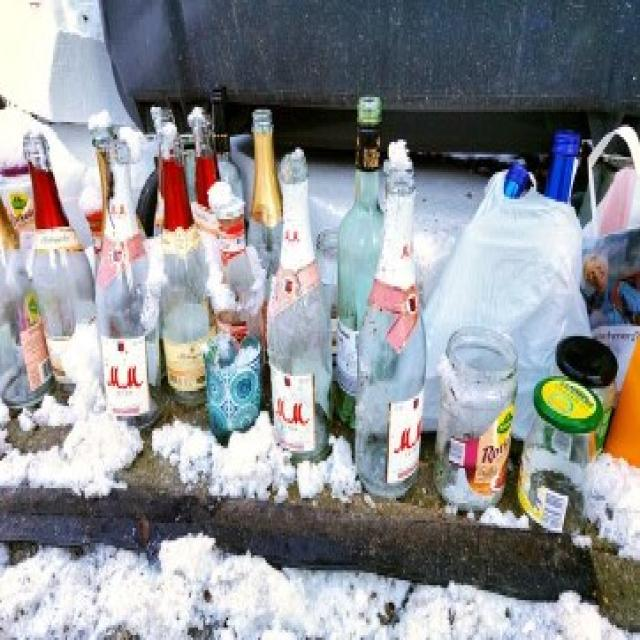electronic: (5, 92, 623, 550)
